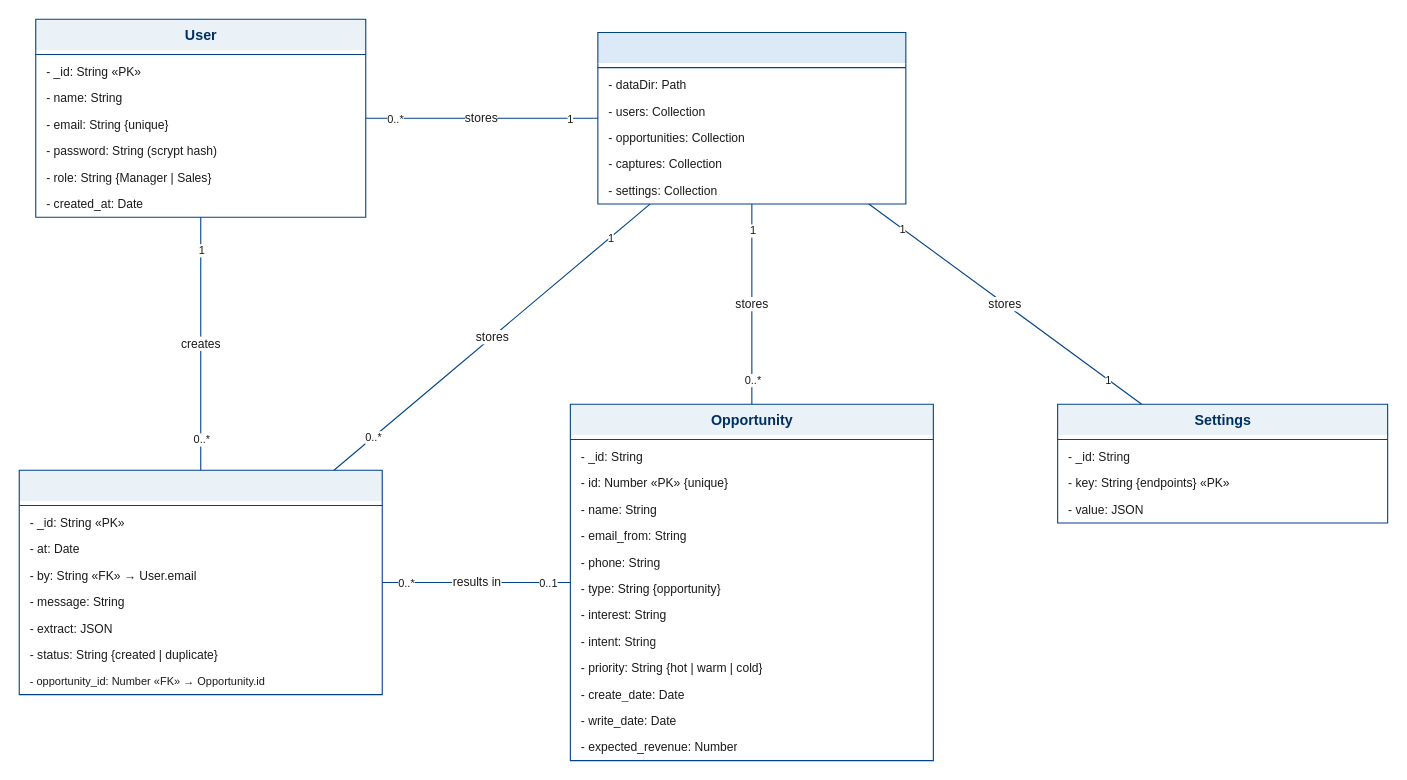
This 1407x780 diagram has some shape labels left out. Each missing label, with the box of its shape:
Capture: (18, 469, 382, 695)
Database: (597, 31, 906, 204)
